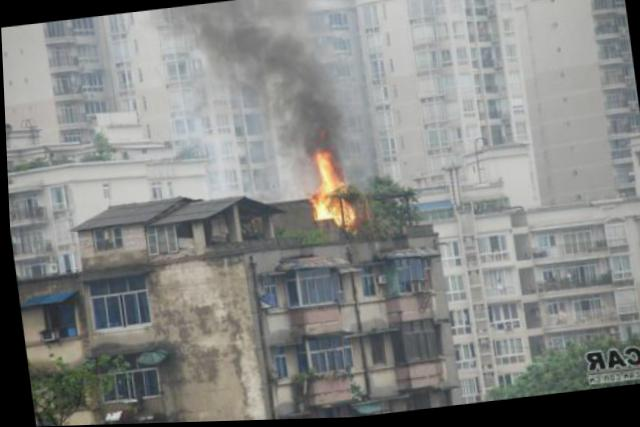fire: (312, 149, 342, 190), (310, 193, 341, 224), (342, 200, 356, 228)
